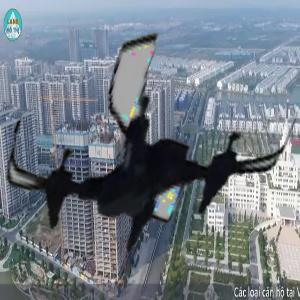drone: (12, 24, 277, 289)
